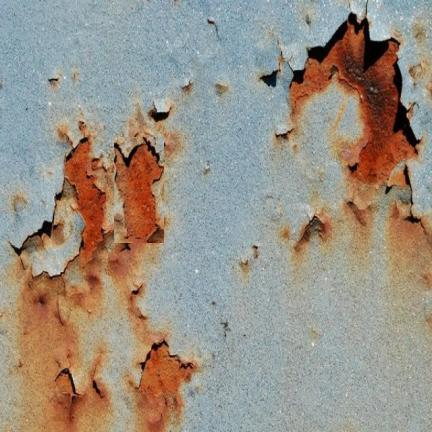karat: (290, 18, 416, 186), (137, 340, 194, 431), (115, 138, 163, 242), (65, 140, 105, 261), (55, 368, 76, 410)
